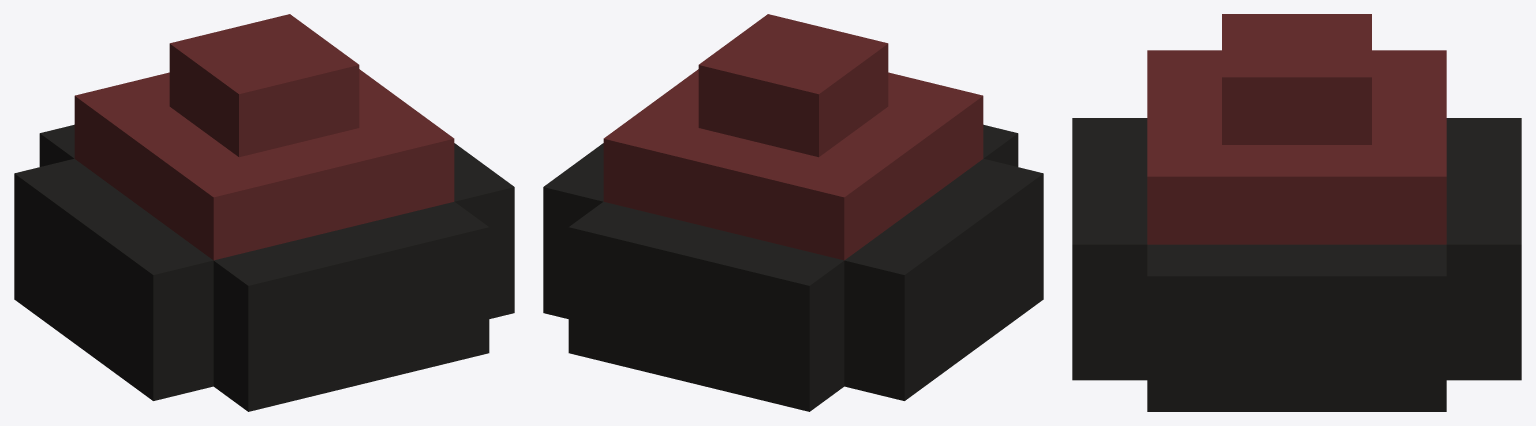
The model's file is char-73-helm_lgt_2b_ja_color.obj.
3 views of the same model, side by side, from view 1: azimuth 30°, elevation 25°; view 2: azimuth 150°, elevation 25°; view 3: azimuth 270°, elevation 25° (orthographic). The views are drawn at different scales.
Visible parts, largest first — view 1: helm_lgt_2b_ja_color; view 2: helm_lgt_2b_ja_color; view 3: helm_lgt_2b_ja_color.
Part boxes in pixels (x1,y1,x2,y2): helm_lgt_2b_ja_color: (14, 14, 514, 411); helm_lgt_2b_ja_color: (543, 14, 1043, 411); helm_lgt_2b_ja_color: (1072, 14, 1521, 411).
Size of the model in its own units: 0.6 by 0.4 by 0.6.
1 material, 1 textured.
